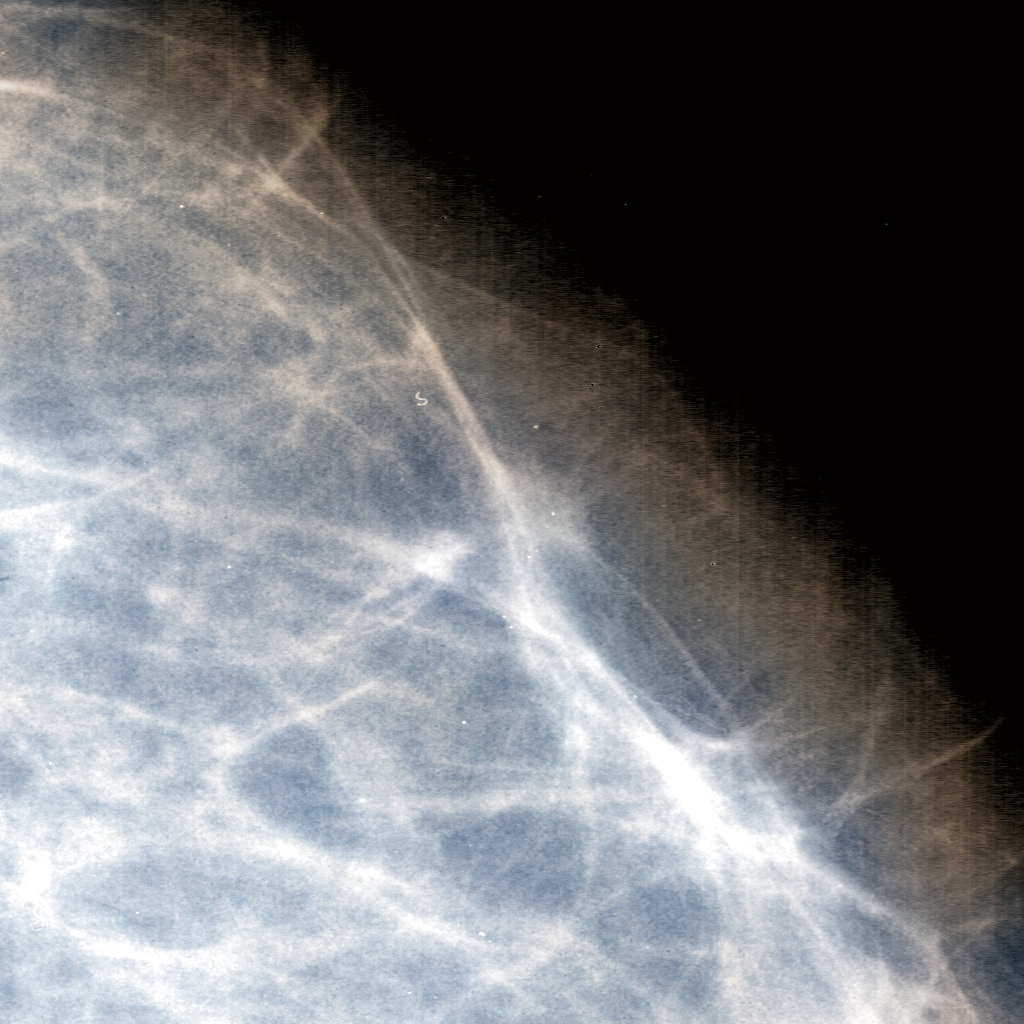tumor: (424, 409, 600, 615)
